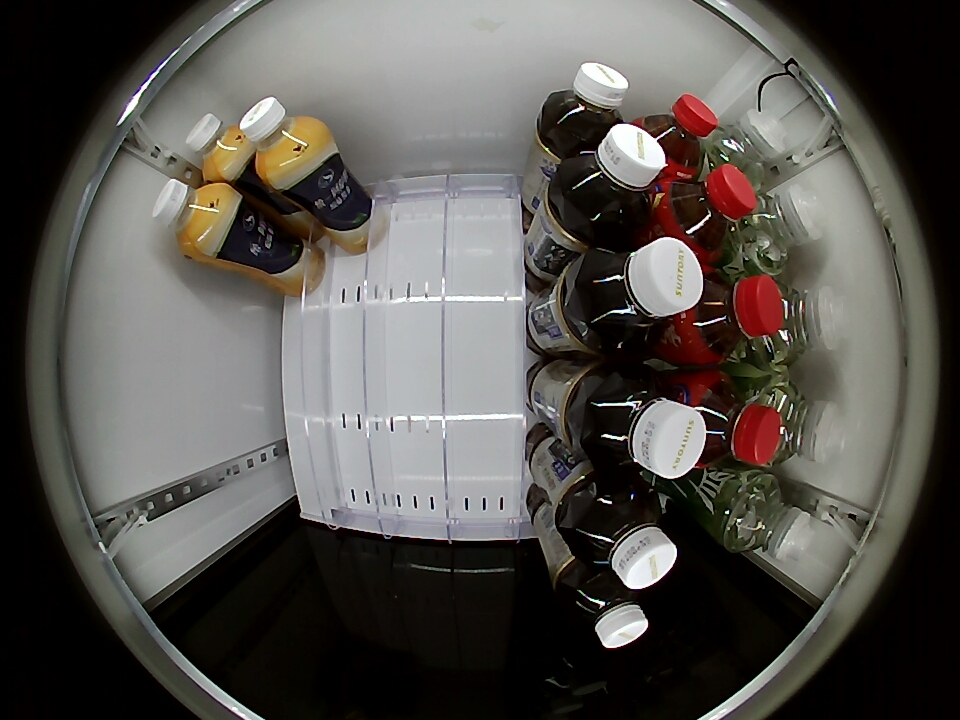asamu: (238, 96, 328, 181), (151, 178, 232, 258), (186, 114, 250, 179)
binghongcha: (677, 272, 784, 366), (658, 165, 759, 263), (685, 371, 783, 469), (637, 93, 718, 176)
jianjiao: (721, 472, 813, 560), (760, 280, 846, 368), (760, 378, 844, 466), (738, 186, 824, 271), (710, 111, 787, 185)
wulongcha: (578, 236, 702, 349), (584, 367, 706, 479), (555, 123, 666, 232), (566, 481, 678, 589), (542, 62, 629, 146), (564, 568, 648, 649)
